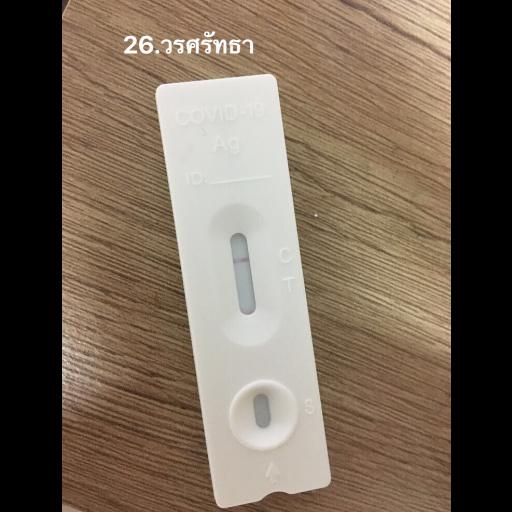Neg: (154, 71, 333, 511)
